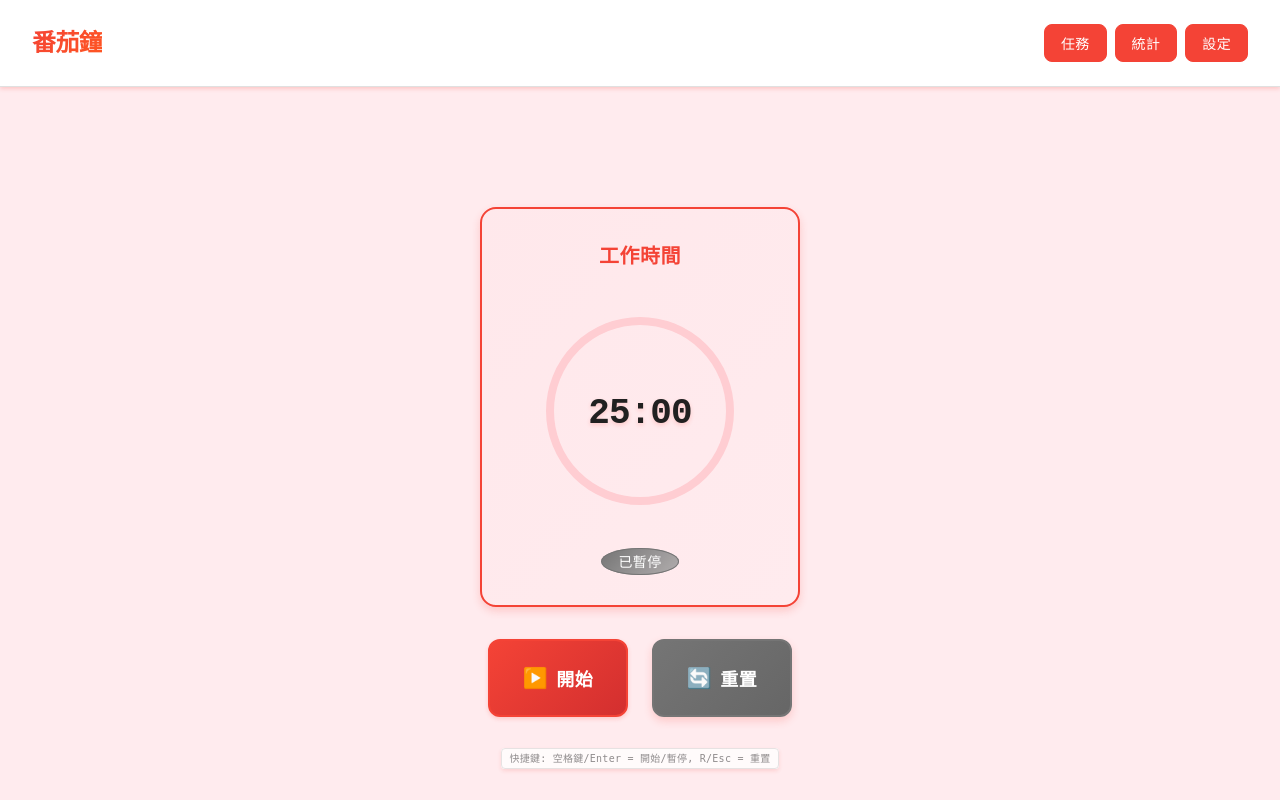
Test: 設定面板顯示問題修復測試 › 桌面端設定面板CSS類名修復 › 應該正確應用sidebar-settings類名
Click the button "設定".
click(1217, 43)  # box [1185,24,1248,62]
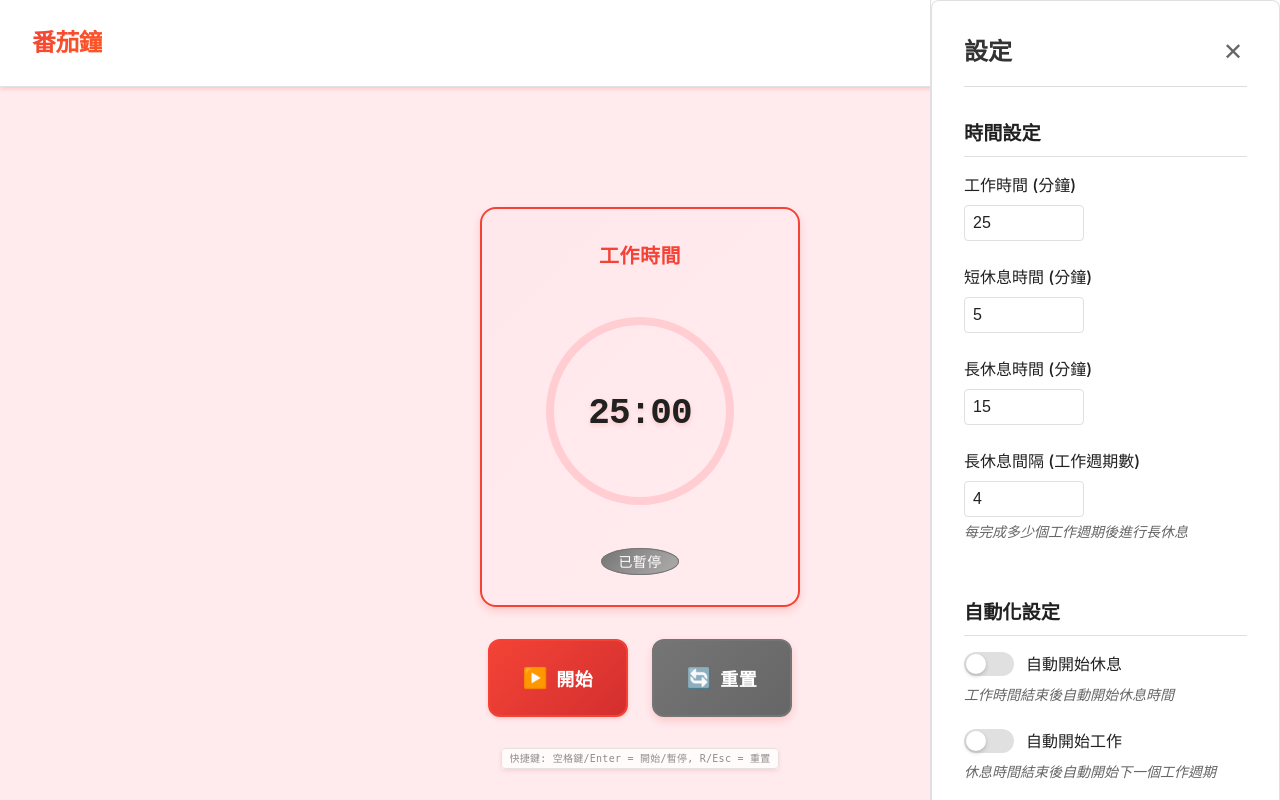
Expected: the element with test id "desktop-settings-panel" is shown, [930,0,1279,799]
